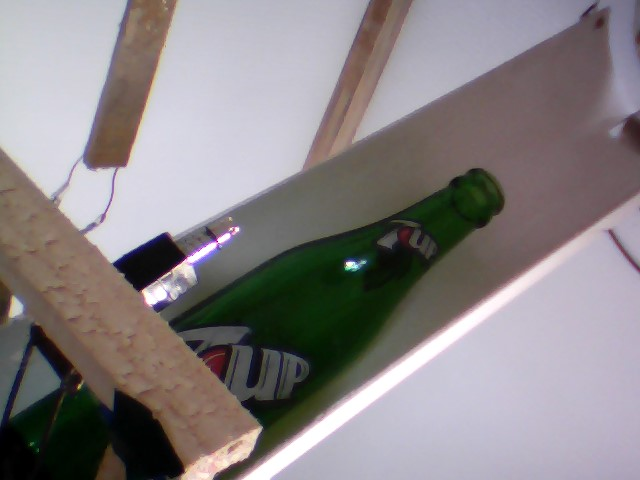vidrio: (180, 159, 521, 426)
